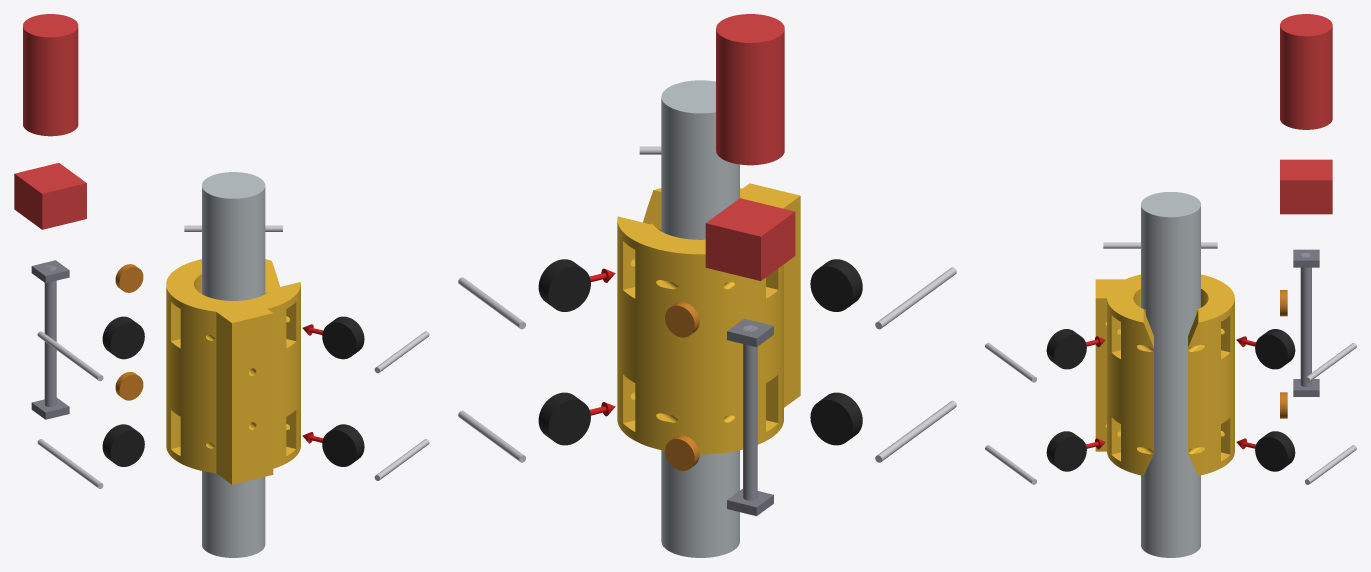
Rendered from cart-sleeves-exploded-v1.glb.
3 views of the same model, side by side, from view 1: azimuth 30°, elevation 25°; view 2: azimuth 150°, elevation 25°; view 3: azimuth 270°, elevation 25° (orthographic). The views are drawn at different scales.
Visible parts, largest first — view 1: sleeve, track_pipe, drive_motor, gearbox, worm, wheel_0, wheel_5, wheel_2, wheel_3, worm_wheels, bearing_blocks, axle_pin_0 (+1 smaller); view 2: sleeve, track_pipe, drive_motor, gearbox, worm, wheel_3, wheel_4, wheel_0, wheel_1, worm_wheels, bearing_blocks, axle_pin_0 (+3 smaller); view 3: sleeve, track_pipe, drive_motor, gearbox, worm, wheel_4, wheel_5, wheel_1, wheel_2, bearing_blocks, spring_preload_arrows.
Boxes of the visible parts, bbox=[...] form: sleeve: bbox=[166, 259, 300, 484]; track_pipe: bbox=[202, 172, 265, 557]; drive_motor: bbox=[23, 14, 78, 136]; gearbox: bbox=[14, 163, 86, 229]; worm: bbox=[44, 265, 56, 407]; wheel_0: bbox=[102, 316, 144, 359]; wheel_5: bbox=[322, 424, 364, 466]; wheel_2: bbox=[322, 316, 364, 359]; wheel_3: bbox=[102, 424, 144, 466]; worm_wheels: bbox=[115, 264, 143, 400]; bearing_blocks: bbox=[31, 260, 69, 419]; axle_pin_0: bbox=[37, 331, 103, 381]; sleeve: bbox=[617, 183, 800, 454]; track_pipe: bbox=[661, 80, 739, 557]; drive_motor: bbox=[716, 14, 784, 165]; gearbox: bbox=[705, 198, 795, 280]; worm: bbox=[743, 325, 757, 500]; wheel_3: bbox=[810, 392, 862, 445]; wheel_4: bbox=[538, 392, 590, 445]; wheel_0: bbox=[810, 259, 862, 311]; wheel_1: bbox=[538, 259, 590, 311]; worm_wheels: bbox=[665, 302, 699, 470]; bearing_blocks: bbox=[727, 318, 773, 516]; axle_pin_0: bbox=[875, 267, 956, 329]; sleeve: bbox=[1095, 274, 1234, 475]; track_pipe: bbox=[1141, 192, 1200, 557]; drive_motor: bbox=[1280, 14, 1332, 129]; gearbox: bbox=[1280, 159, 1332, 214]; worm: bbox=[1300, 252, 1311, 386]; wheel_4: bbox=[1255, 431, 1295, 471]; wheel_5: bbox=[1046, 431, 1086, 471]; wheel_1: bbox=[1255, 329, 1295, 369]; wheel_2: bbox=[1046, 329, 1086, 369]; bearing_blocks: bbox=[1293, 249, 1319, 396]; spring_preload_arrows: bbox=[1086, 336, 1255, 449].
Size of the model in its own units: 171 by 275 by 198.
